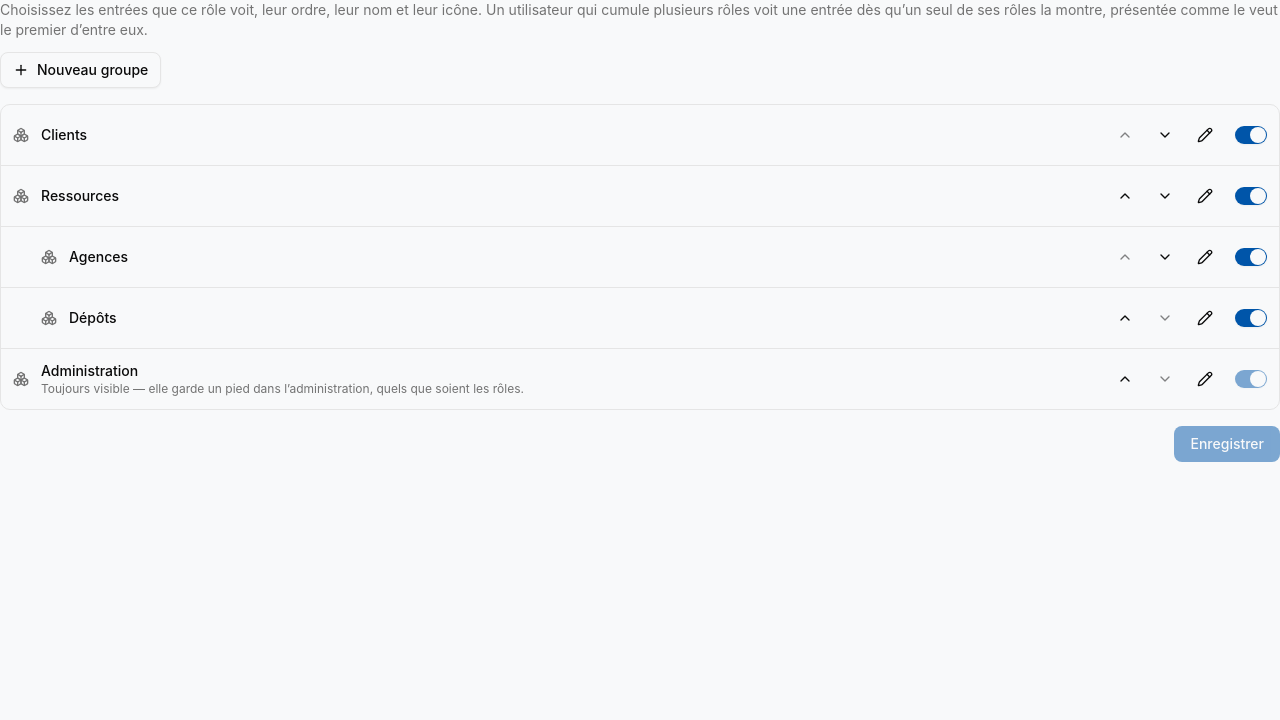
Test: personnalisation du menu › ne propose pas de déplacer un groupe
This screenshot has width=1280, height=720.
expect the text "Clients" is shown: met, box [41,125,87,145]
Click the button named "Personnaliser « Ressources »": (1205,196) [1187,178,1223,214]
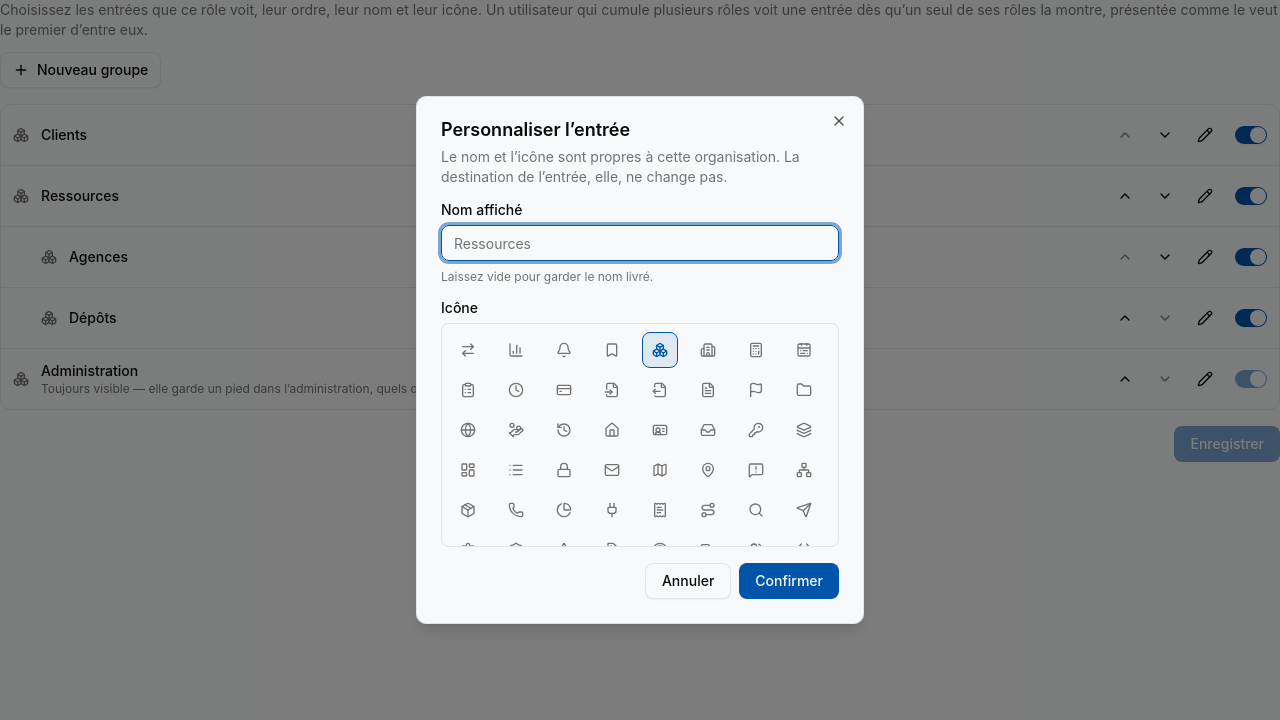
expect the field labelled "Nom affiché" is shown: met, box [441,225,839,261]
